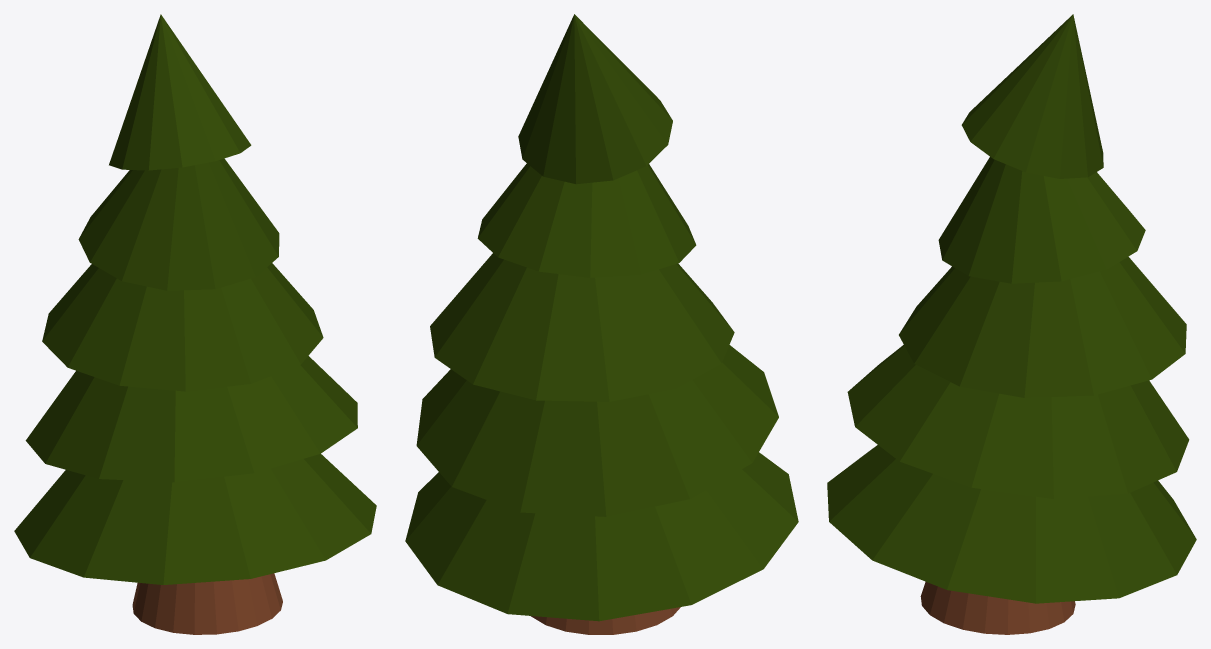
File: tree02.glb
3 renders of one model, left to right at view 1: azimuth 30°, elevation 25°; view 2: azimuth 150°, elevation 25°; view 3: azimuth 270°, elevation 25°, orthographic. The views are drawn at different scales.
Parts seen in each view (by area): view 1: Tree 2; view 2: Tree 2; view 3: Tree 2.
Boxes of the visible parts, box(x1,y1,x2,y2) form: Tree 2: box(14, 14, 376, 634); Tree 2: box(405, 14, 798, 634); Tree 2: box(827, 14, 1196, 634).
Bounding box in the file's own units: 5.96 × 10.31 × 5.88.
